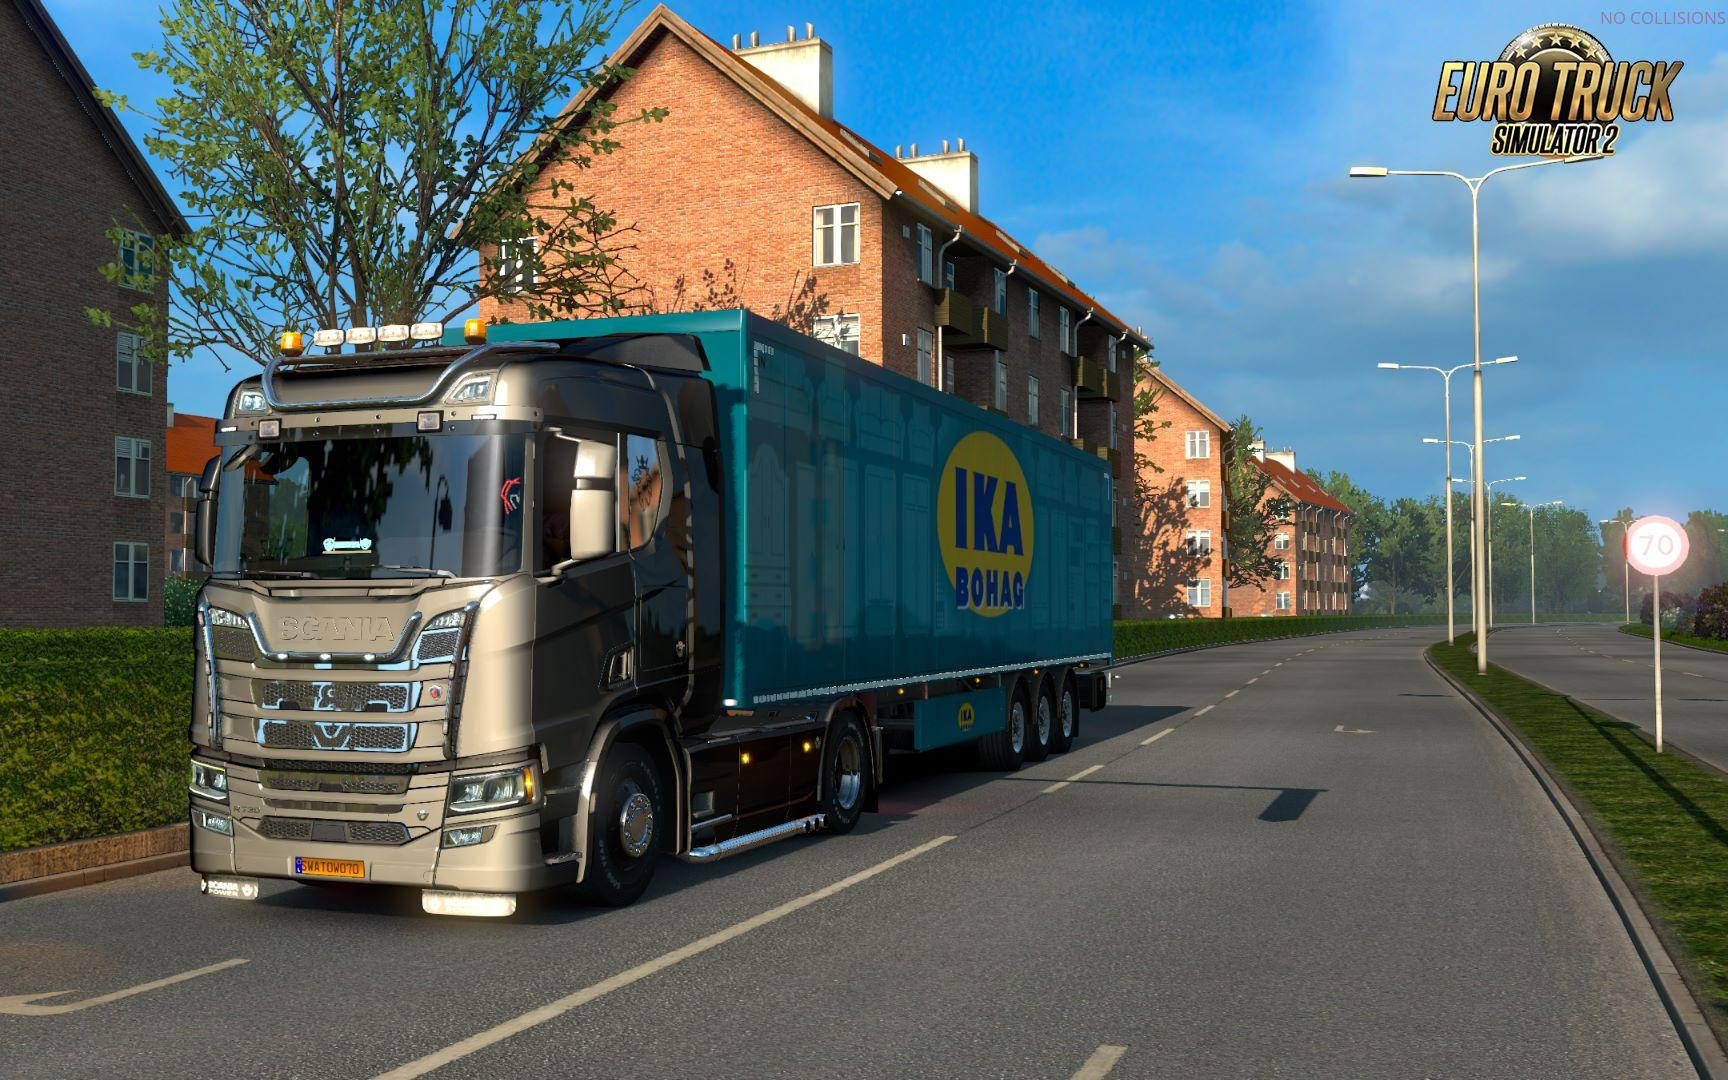truck: (174, 263, 1140, 926)
